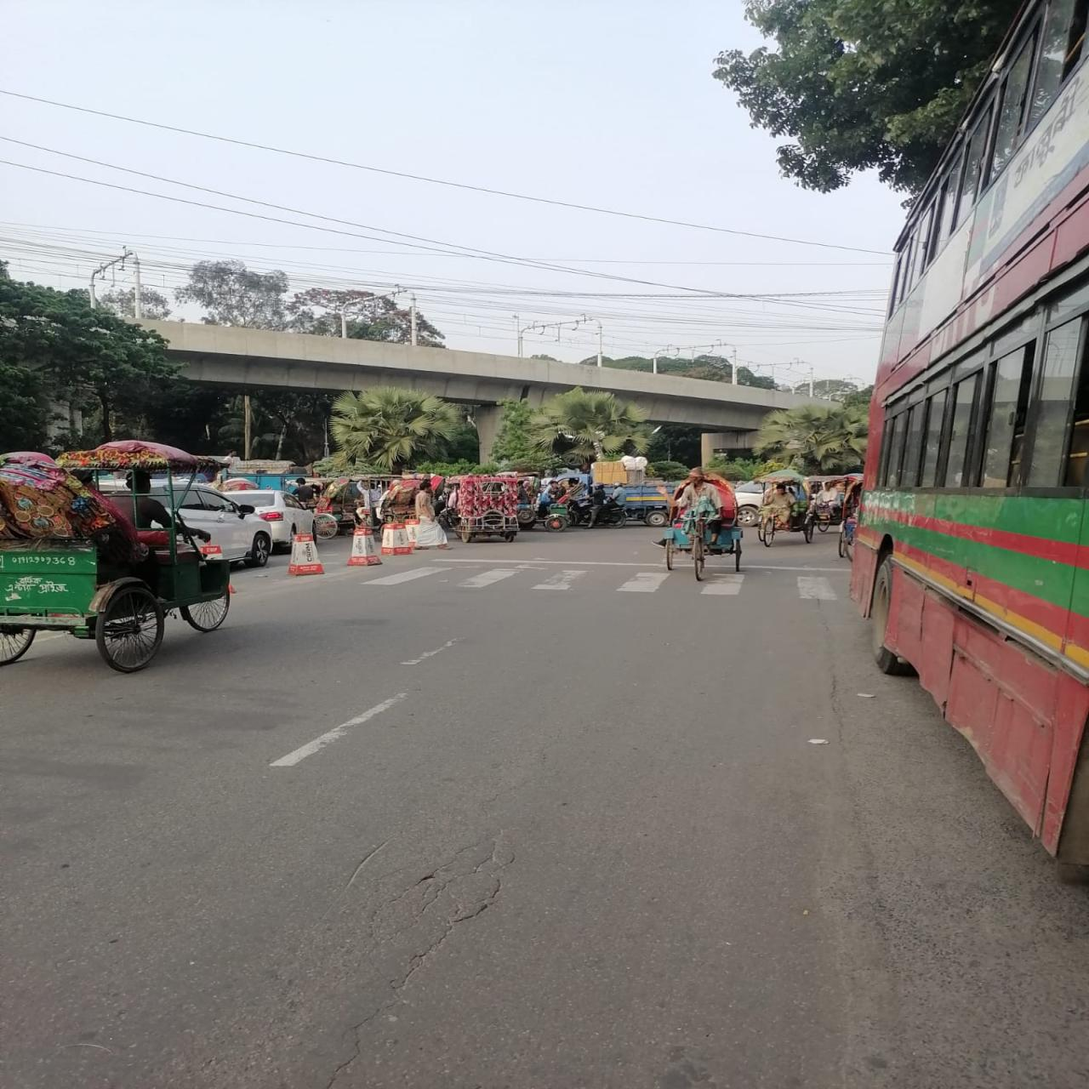person: (407, 479, 443, 555)
